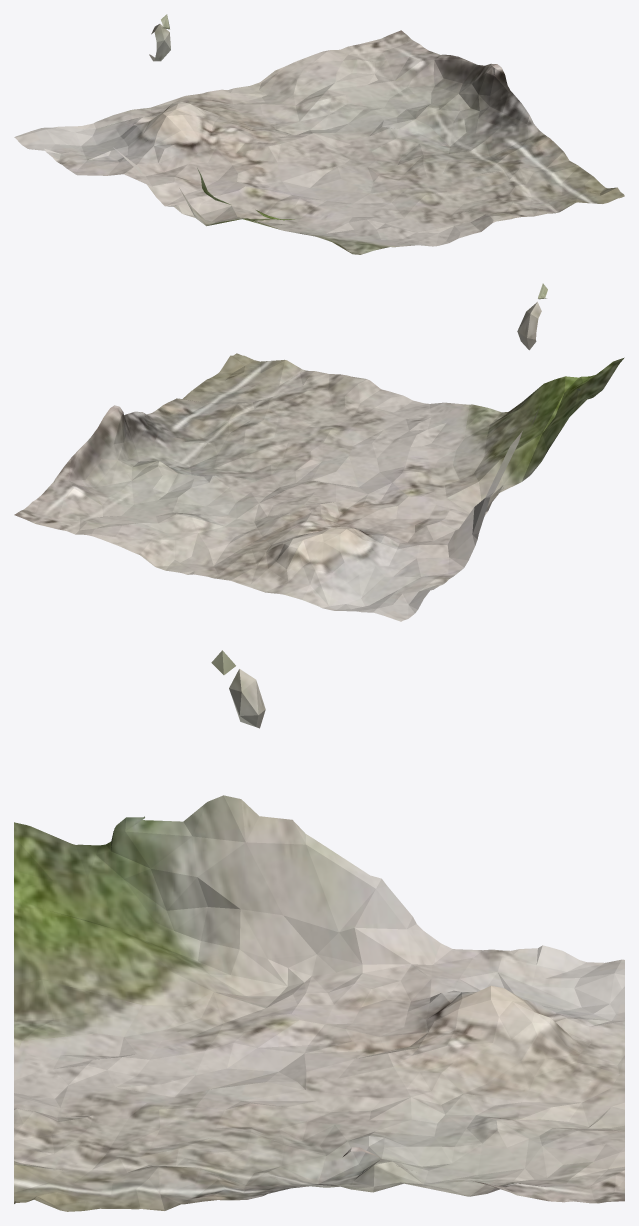
3 views of the same model, one above another, from view 1: azimuth 30°, elevation 25°; view 2: azimuth 150°, elevation 25°; view 3: azimuth 270°, elevation 25° (orthographic). The views are drawn at different scales.
Bounding box in the file's own units: 5.9 × 3.48 × 5.9.
3 materials, 3 textured.
